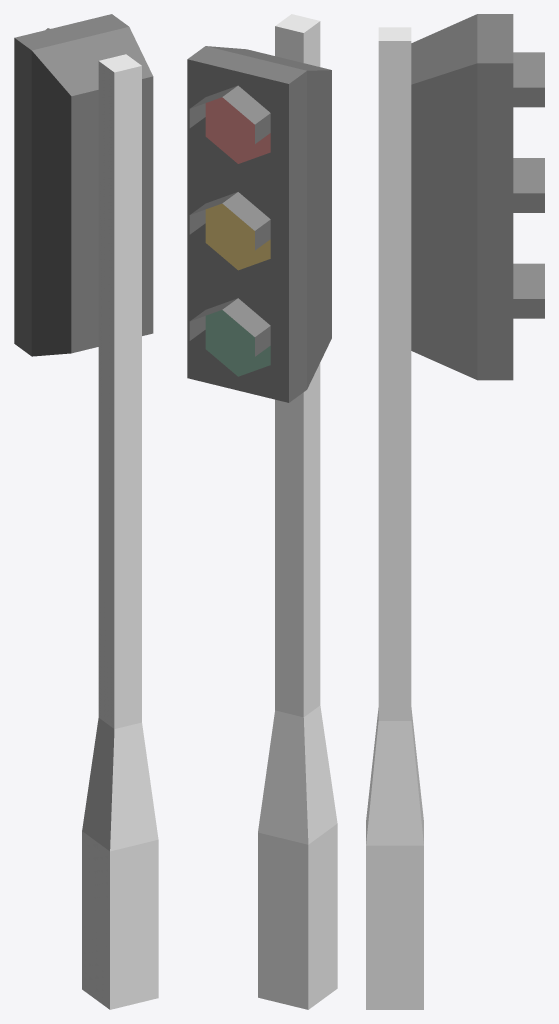
Rendered from lightColored.gltf.
3 views of the same model, side by side, from view 1: azimuth 30°, elevation 25°; view 2: azimuth 150°, elevation 25°; view 3: azimuth 270°, elevation 25° (orthographic). The views are drawn at different scales.
Visible parts, largest first — view 1: lightColored; view 2: lightColored; view 3: lightColored.
Boxes of the visible parts, x1,y1,x2,y2 form: lightColored: (14,14,158,1009); lightColored: (187,14,337,1009); lightColored: (366,14,544,1009).
Bounding box in the file's own units: 0.708 × 6.46 × 1.09.
